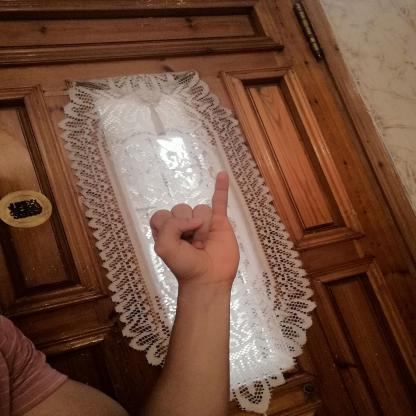MEEM: (129, 164, 260, 293)
